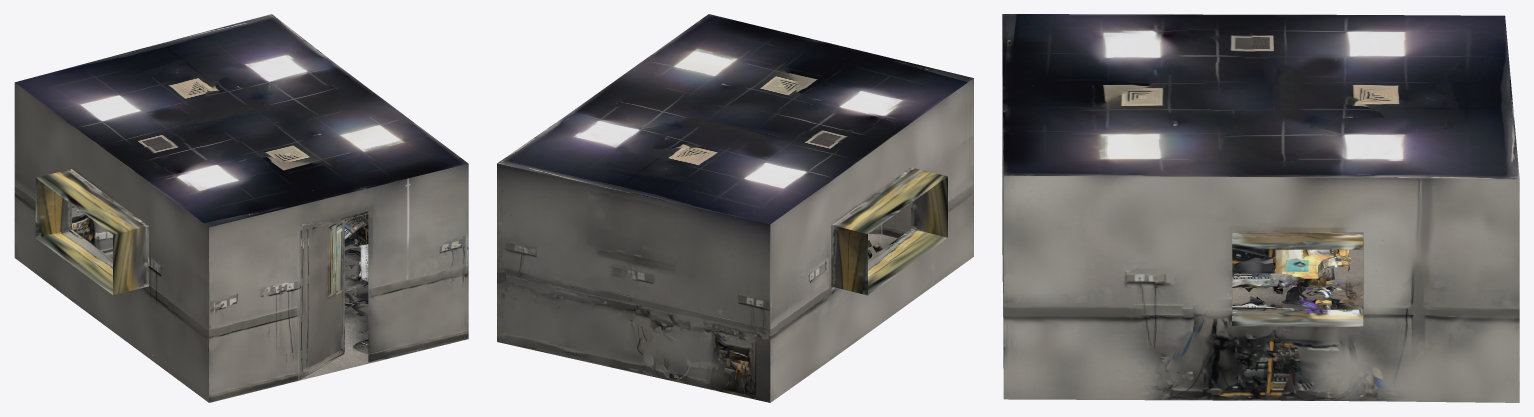
3 views of the same model, side by side, from view 1: azimuth 30°, elevation 25°; view 2: azimuth 150°, elevation 25°; view 3: azimuth 270°, elevation 25° (orthographic). The views are drawn at different scales.
Visible parts, largest first — view 1: M109-IM; view 2: M109-IM; view 3: M109-IM.
Part boxes in pixels (bbox=[...]): M109-IM: bbox=[14, 14, 468, 402]; M109-IM: bbox=[497, 14, 973, 402]; M109-IM: bbox=[1002, 14, 1519, 402].
Size of the model in its own units: 461 by 239 by 498.
1 material, 1 textured.
